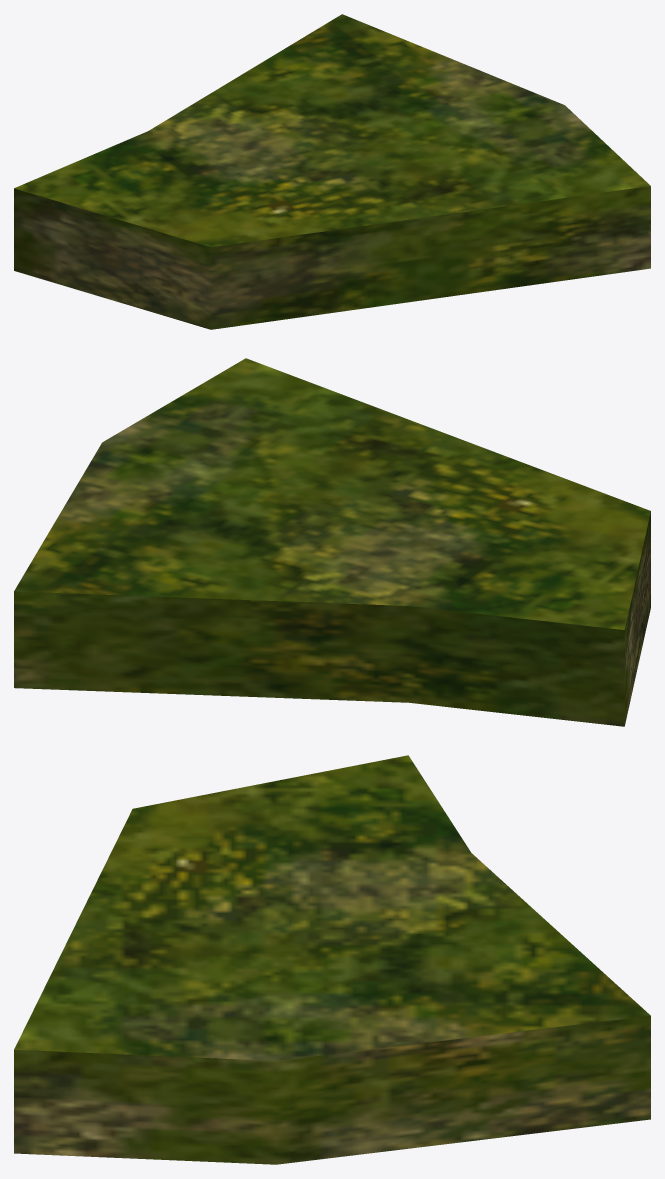
Rendered from ANIMATEDINSTANCES_ROOF_FALL_01__AI.fbx.
The picture shows the model from 3 angles, top to bottom: view 1: azimuth 30°, elevation 25°; view 2: azimuth 150°, elevation 25°; view 3: azimuth 270°, elevation 25°; orthographic projection. The views are drawn at different scales.
Visible parts, largest first — view 1: ANIMATEDINSTANCES_ROOF_FALL_01__AI; view 2: ANIMATEDINSTANCES_ROOF_FALL_01__AI; view 3: ANIMATEDINSTANCES_ROOF_FALL_01__AI.
Boxes of the visible parts, left/top/right/bottom form: ANIMATEDINSTANCES_ROOF_FALL_01__AI: left=14, top=14, right=650, bottom=329; ANIMATEDINSTANCES_ROOF_FALL_01__AI: left=14, top=358, right=650, bottom=726; ANIMATEDINSTANCES_ROOF_FALL_01__AI: left=14, top=755, right=650, bottom=1164.
Size of the model in its own units: 15798 by 2500 by 13910.
1 material, 1 textured.
